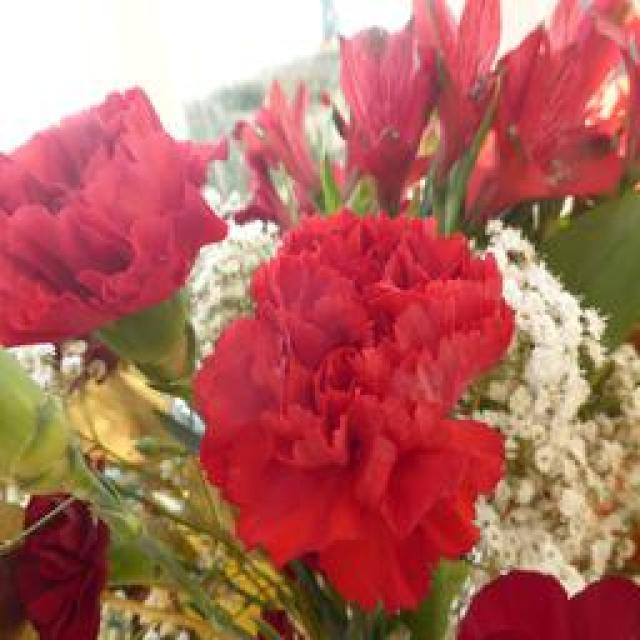carnation: (200, 196, 509, 588)
